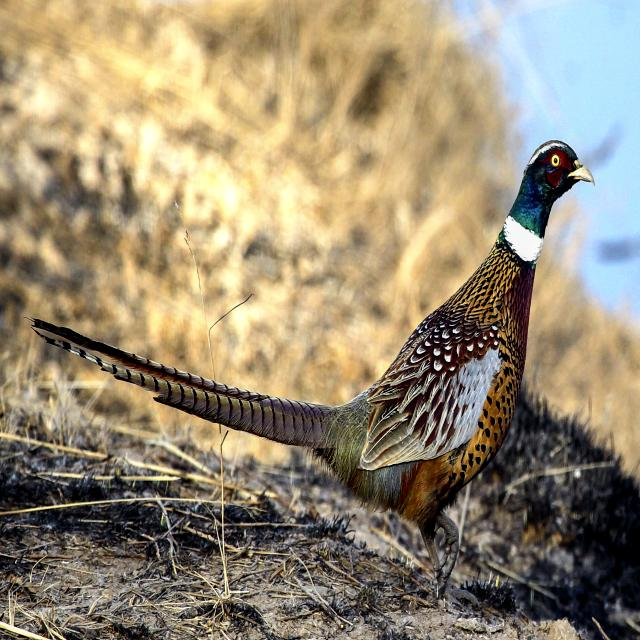Phasianus Colchicus: (25, 310, 339, 449)
